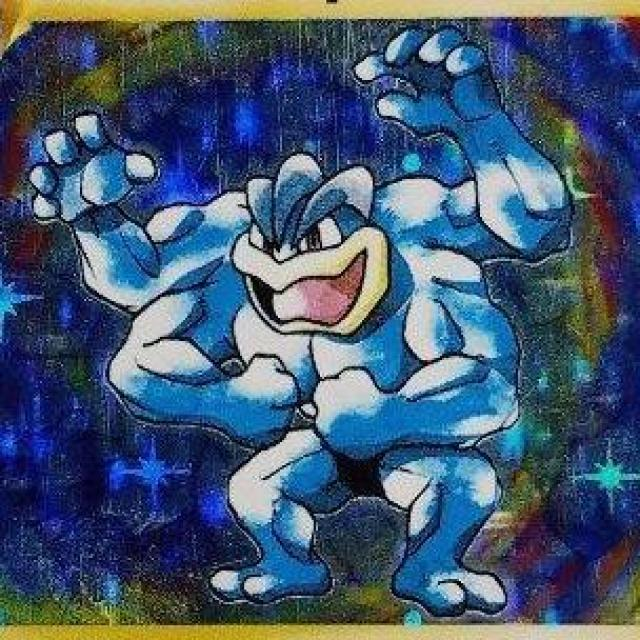Machamp: (110, 151, 527, 609)
